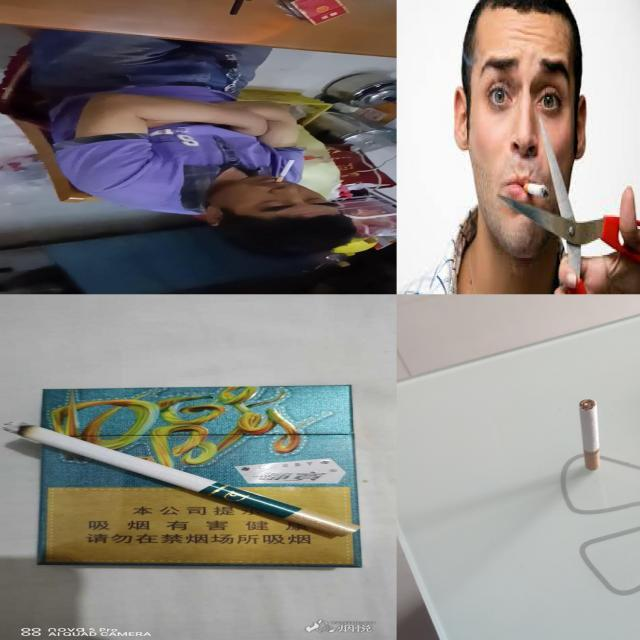cigarette: (3, 420, 364, 538), (580, 398, 601, 471), (275, 160, 296, 182), (523, 183, 549, 198)
